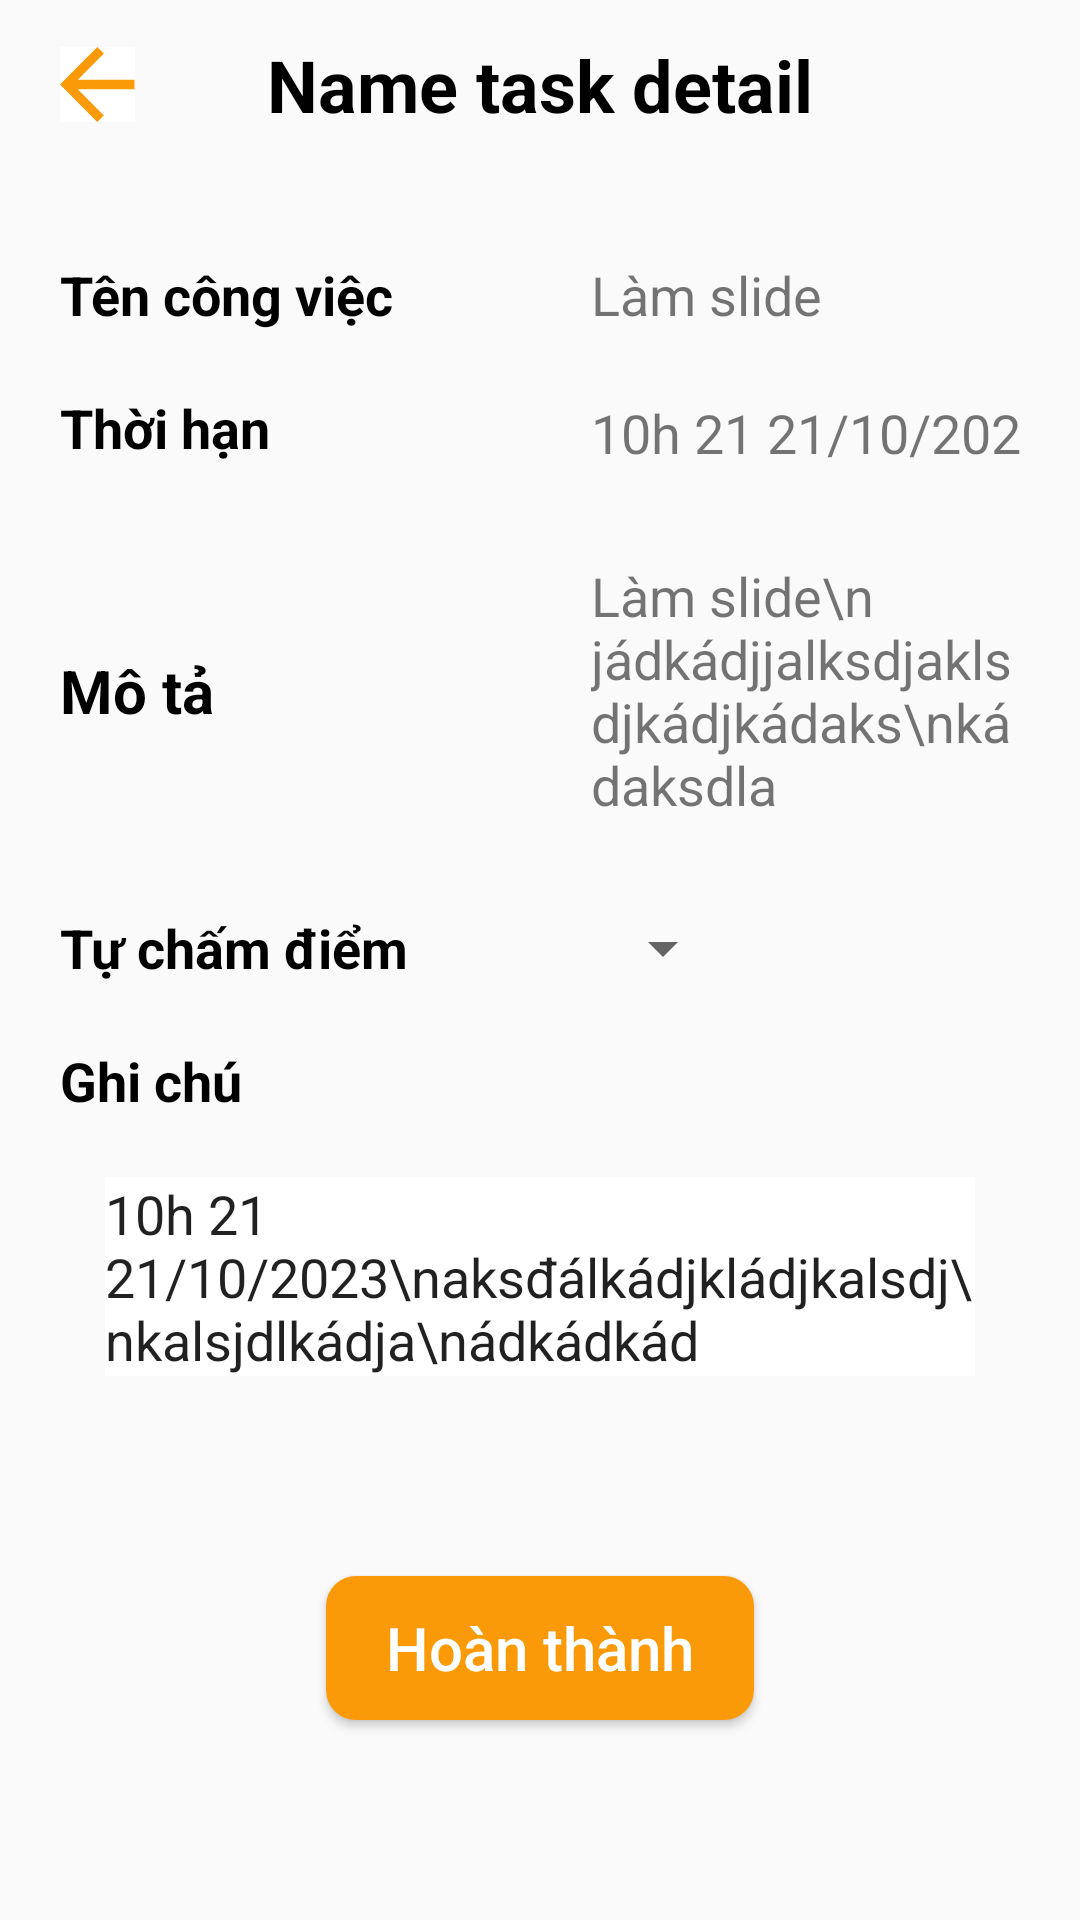

Point at icon controls on the screen. Image size 1080 × 1920, points as point (x, y).
back: point (97, 84)
